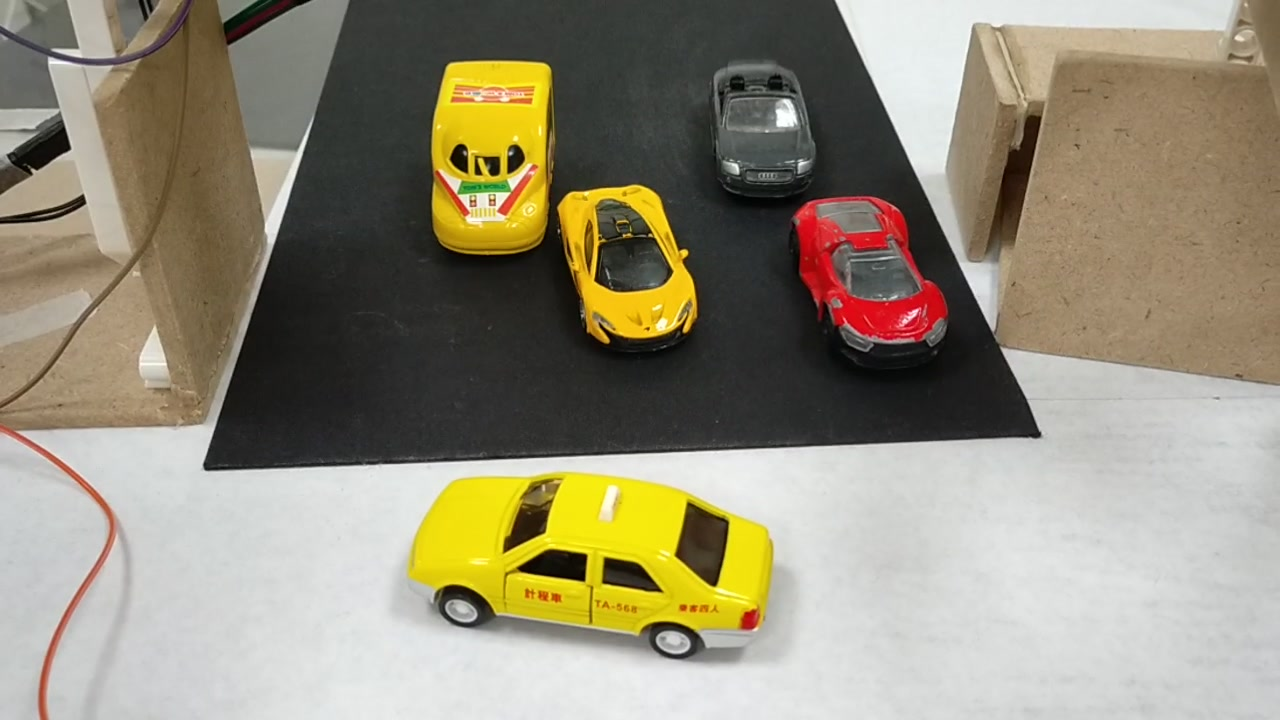car: (410, 474, 774, 660), (789, 205, 945, 359), (557, 189, 696, 352), (709, 68, 813, 199)
